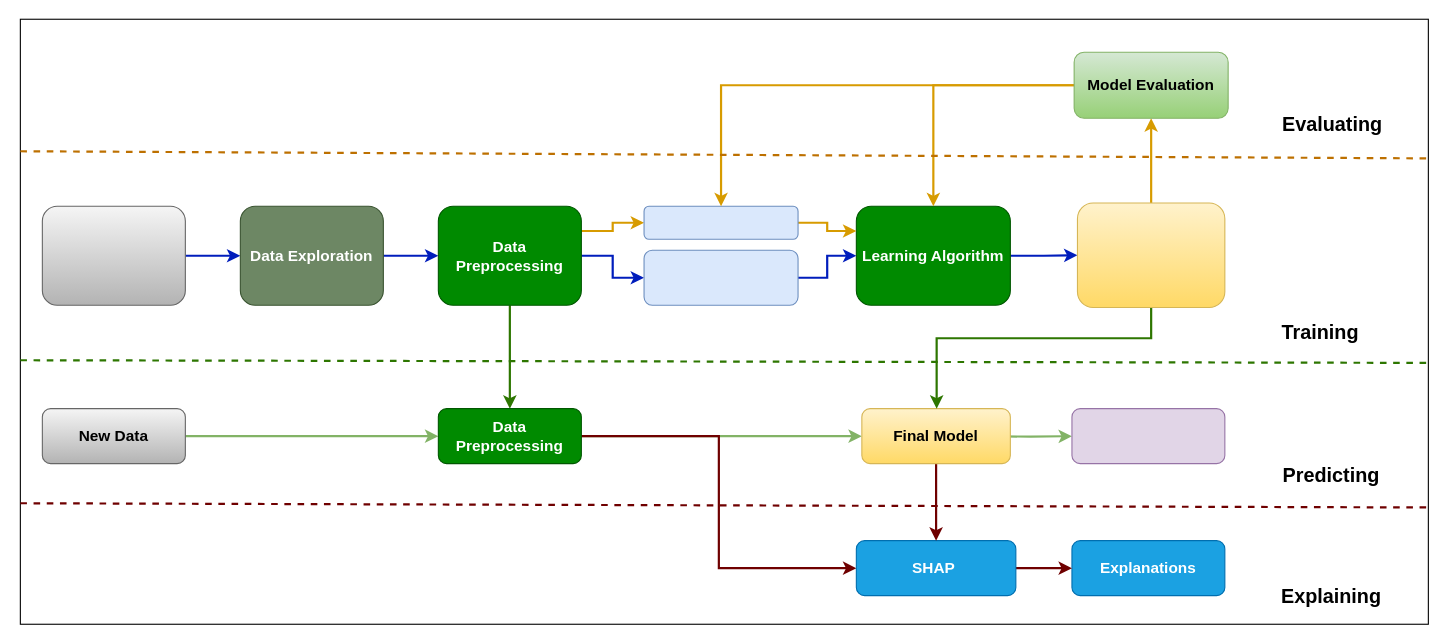
Some shapes in this 1453 by 644 pixel diagram are drawn without their labels. The centre of each missing label's shape, as x and y in pixels:
"Model" goes at (1150,254).
"Predictions" goes at (1148,436).
"Raw Data" goes at (113,255).
"Training Dataset" goes at (720,277).
"Validatiaon Dataset" goes at (720,222).
